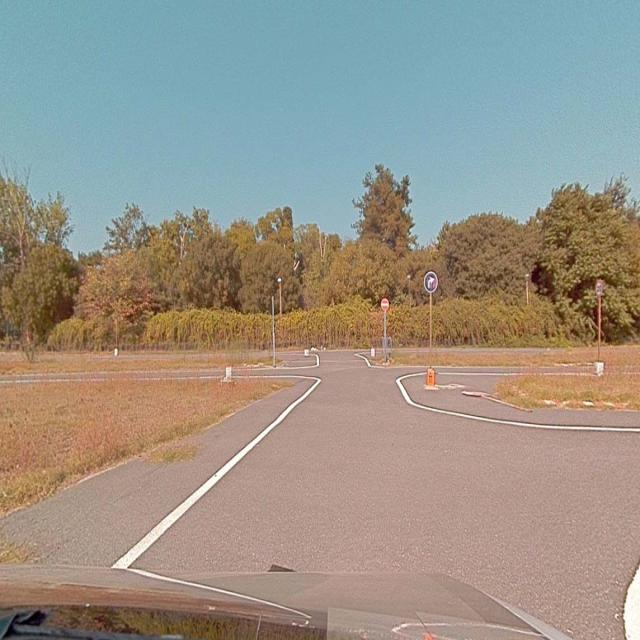girisyok: (381, 298, 388, 310)
sag: (424, 272, 438, 292)
